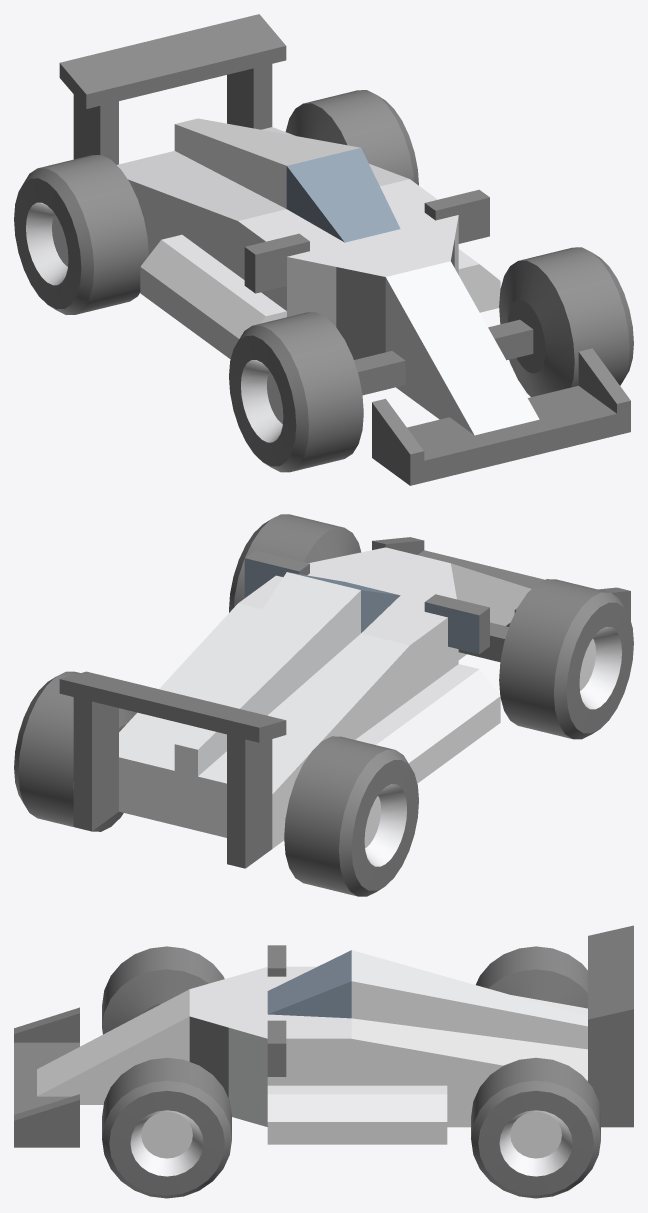
File: raceCarWhite.glb
3 renders of one model, top to bottom at view 1: azimuth 30°, elevation 25°; view 2: azimuth 150°, elevation 25°; view 3: azimuth 270°, elevation 25°, orthographic. The views are drawn at different scales.
Visible parts, largest first — view 1: body, wheelFrontRight, wheelBackRight, wheelFrontLeft, wheelBackLeft; view 2: body, wheelBackRight, wheelFrontRight, wheelBackLeft, wheelFrontLeft; view 3: body, wheelBackLeft, wheelFrontLeft, wheelFrontRight, wheelBackRight.
Boxes of the visible parts, x1,y1,x2,y2 form: body: (59,14,630,485); wheelFrontRight: (229,312,363,472); wheelBackRight: (14,155,148,314); wheelFrontLeft: (499,247,633,397); wheelBackLeft: (285,90,418,185); body: (59,537,630,868); wheelBackRight: (284,736,418,896); wheelFrontRight: (499,579,633,739); wheelBackLeft: (14,671,136,831); wheelFrontLeft: (229,514,360,612); body: (14,925,633,1147); wheelBackLeft: (471,1057,600,1198); wheelFrontLeft: (102,1057,231,1198); wheelFrontRight: (102,946,224,1034); wheelBackRight: (476,946,587,1008).
Size of the model in its own units: 0.7288 by 0.397 by 1.35.
